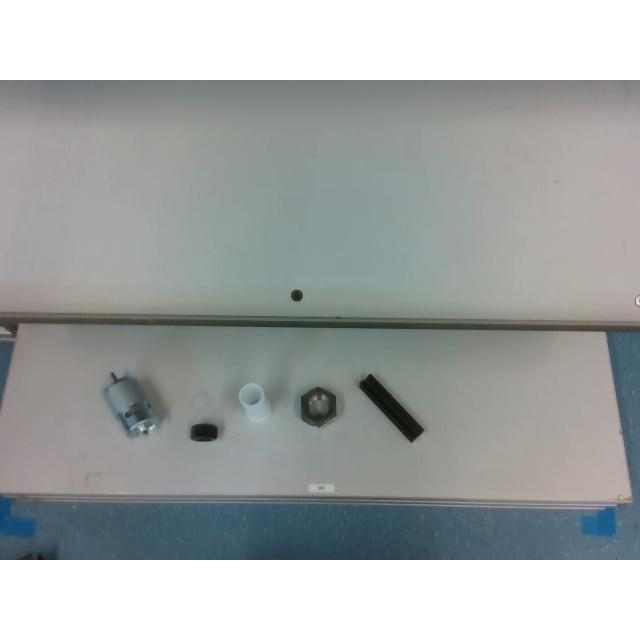F20_20_B: (360, 373, 424, 441)
M20: (190, 423, 218, 441)
M30: (300, 386, 336, 426)
Motor2: (104, 372, 158, 436)
Spacer: (238, 383, 270, 421)
